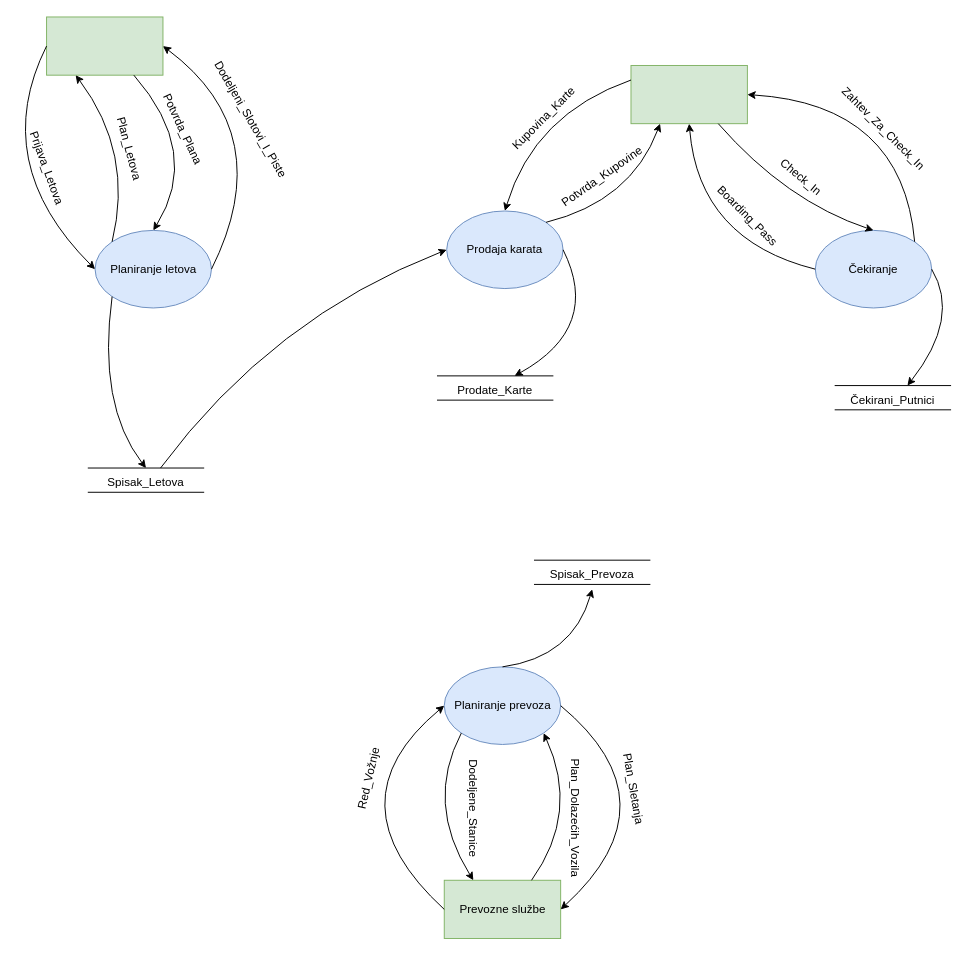
This 970x955 diagram has some shape labels left out. The shapes that lost their labels are listed below. From the top down, each one's box as (x1, y1, x2, y2) in pixels, then its label:
(46, 16, 163, 75): Aviokompanije
(630, 65, 747, 124): Putnici
